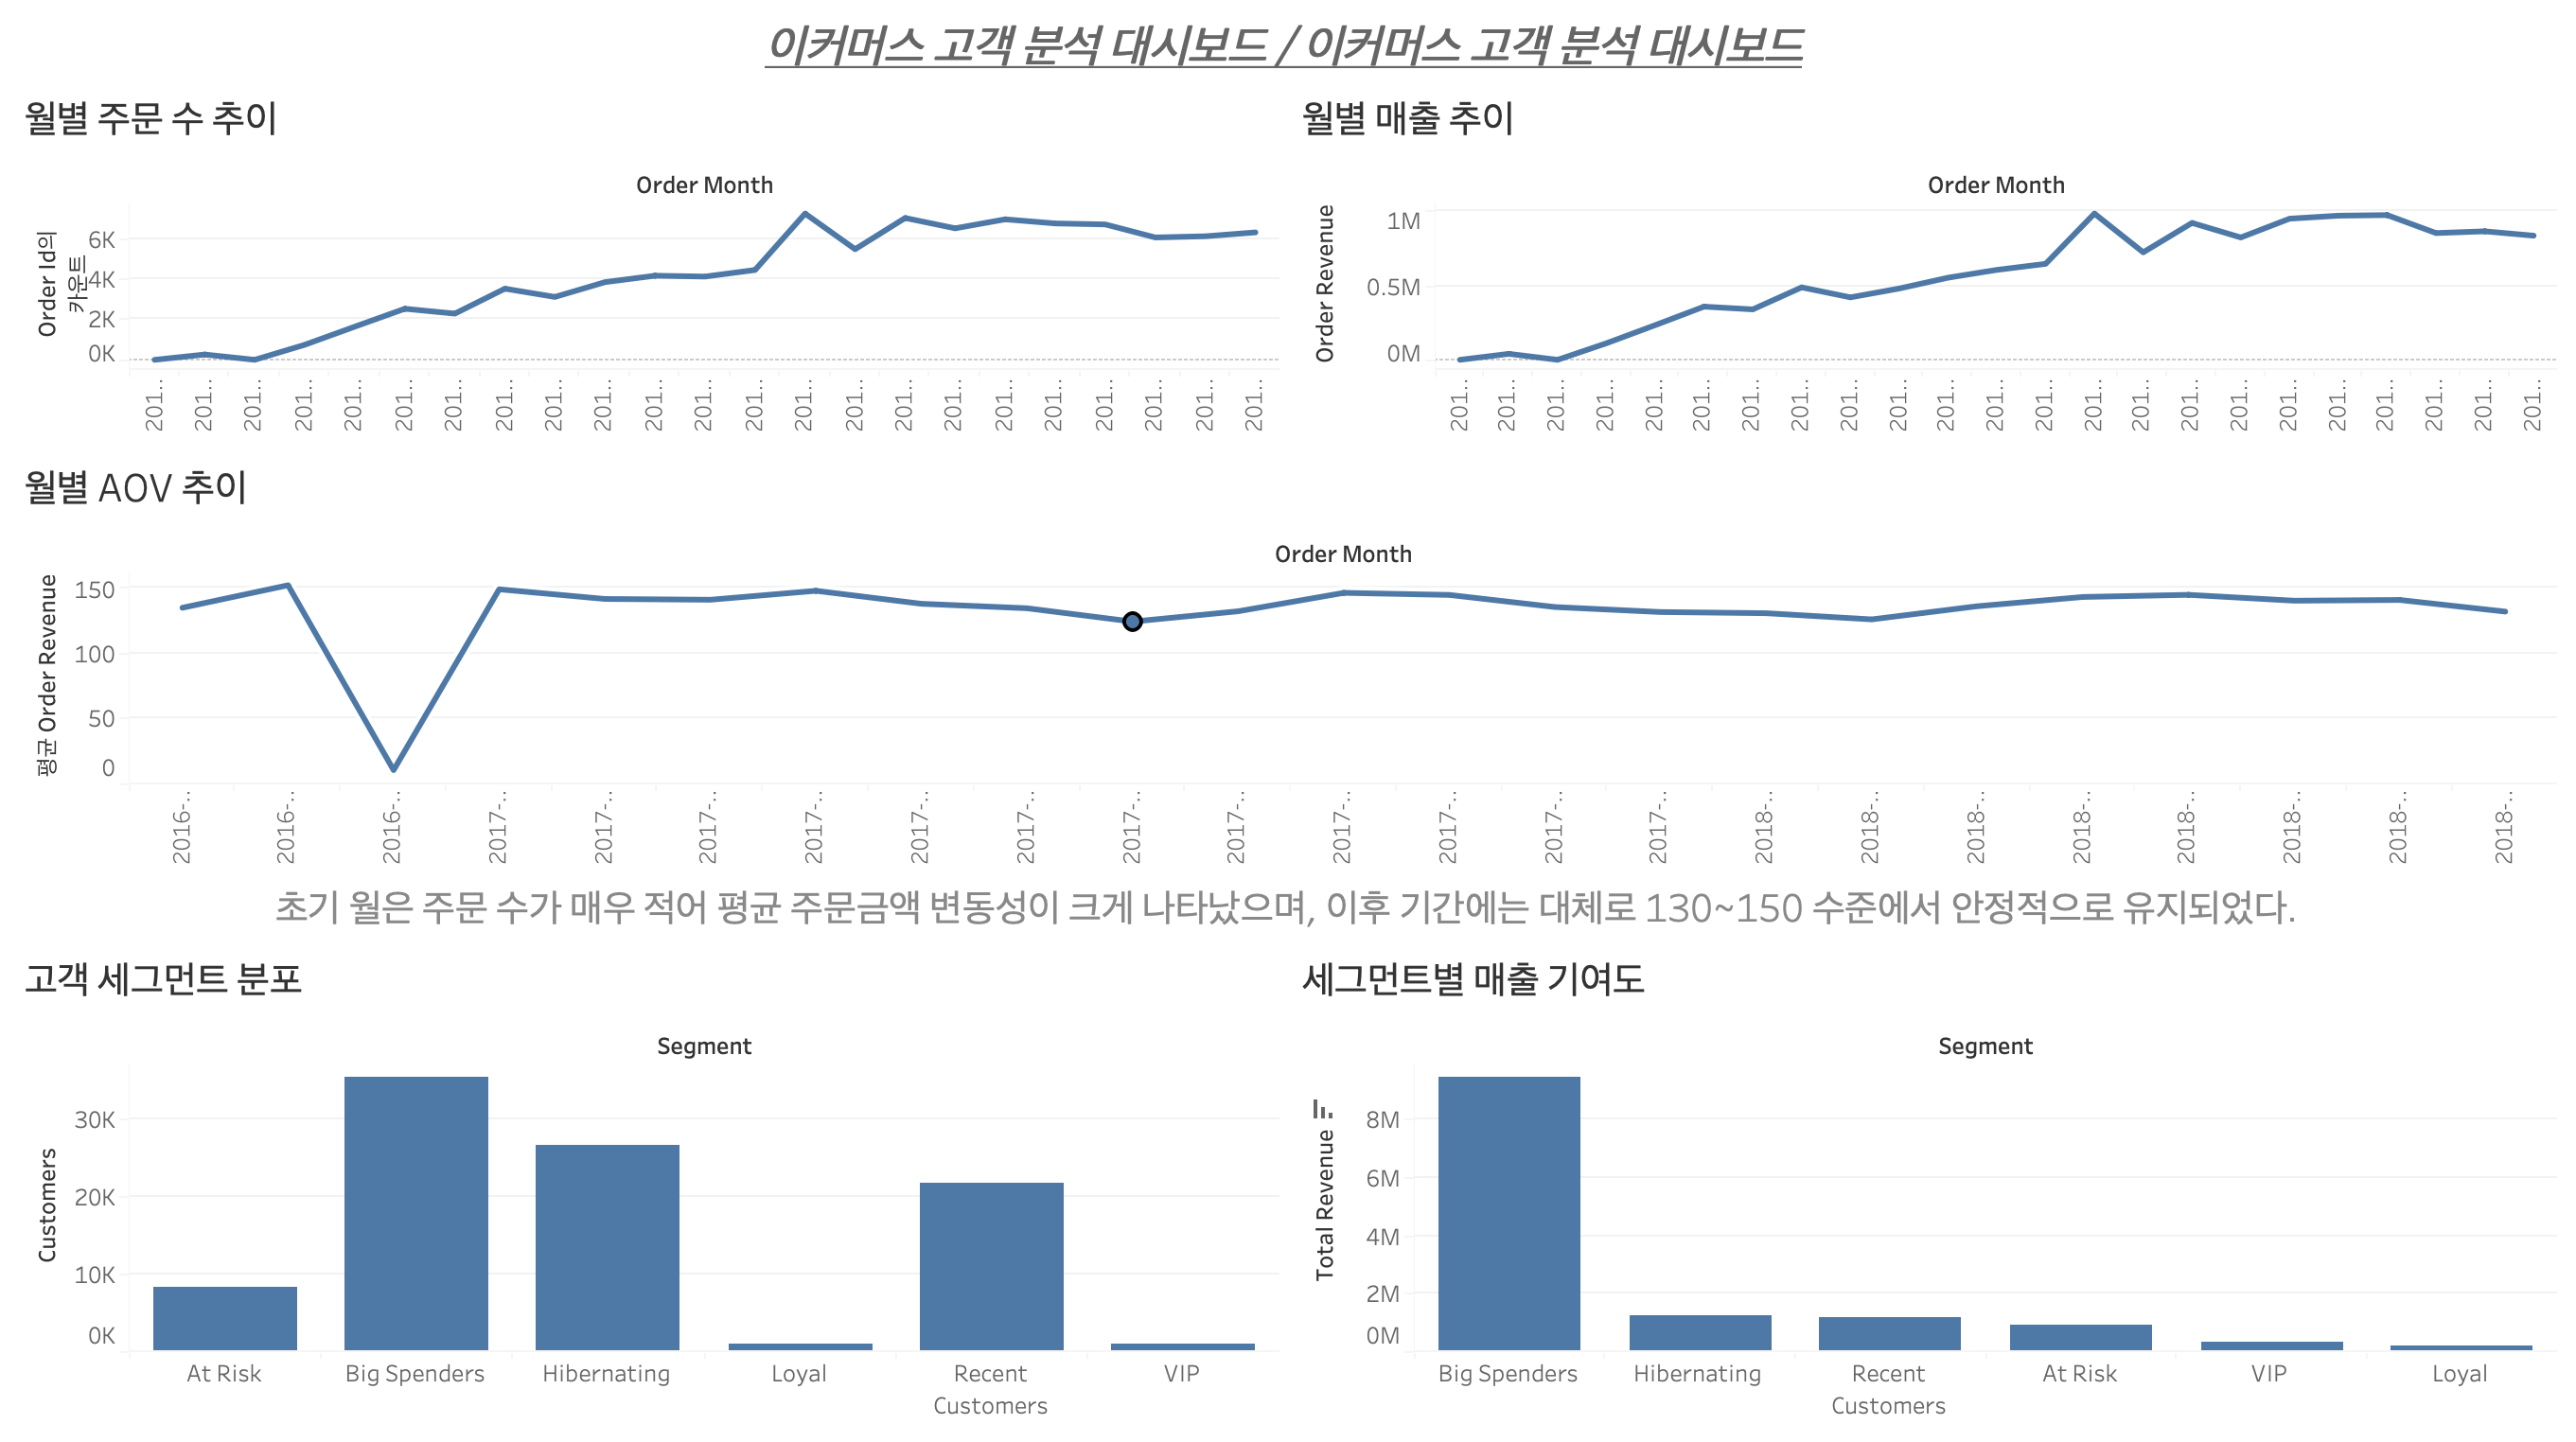

The page's visual inventory and layout, read from the dashboard file:
{"tool":"tableau","page":{"name":"이커머스 고객 분석 대시보드","canvas":[1366,768],"ordinal":0},"visuals":[{"type":"worksheet","title":"월별 주문 수 추이","mark":"Line","rows":["order_id"],"cols":["order_month"],"box":[8,8,675,229]},{"type":"worksheet","title":"월별 매출 추이","mark":"Line","rows":["order_revenue"],"cols":["order_month"],"box":[683,8,675,229]},{"type":"worksheet","title":"월별 AOV 추이","mark":"Line","rows":["order_revenue"],"cols":["order_month"],"box":[8,237,1350,260]},{"type":"worksheet","title":"고객 세그먼트 분포","mark":"Automatic","rows":["customers"],"cols":["segment"],"box":[8,497,675,263]},{"type":"worksheet","title":"세그먼트별 매출 기여도","mark":"Automatic","rows":["total_revenue"],"cols":["segment"],"box":[683,497,675,263]}]}

Visuals, with their boxes in screenshot pixels (x1, y1, x2, y2), scaled from the page's 1366x768 canvas onto the 2576x1442 screenshot:
"월별 주문 수 추이" worksheet (Line marks): select_region(15, 15, 1288, 445)
"월별 매출 추이" worksheet (Line marks): select_region(1288, 15, 2561, 445)
"월별 AOV 추이" worksheet (Line marks): select_region(15, 445, 2561, 933)
"고객 세그먼트 분포" worksheet: select_region(15, 933, 1288, 1427)
"세그먼트별 매출 기여도" worksheet: select_region(1288, 933, 2561, 1427)
